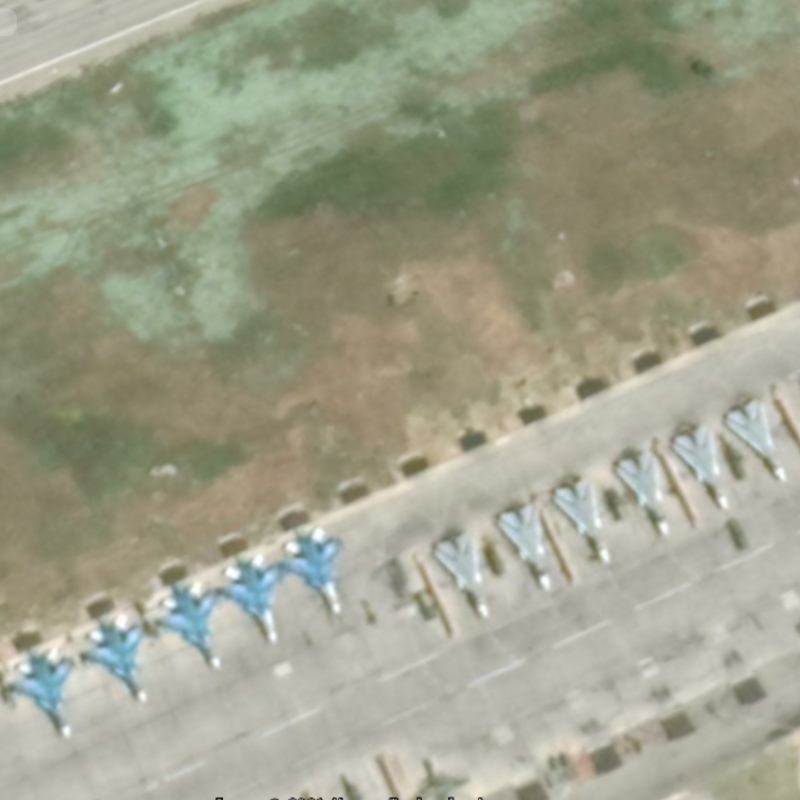A19: (278, 523, 355, 618), (4, 644, 77, 740), (79, 612, 150, 707), (153, 576, 223, 672), (219, 550, 286, 645)
A20: (427, 524, 494, 621), (721, 393, 791, 485), (610, 440, 672, 539), (493, 496, 555, 593), (551, 470, 612, 567), (668, 421, 731, 513)
